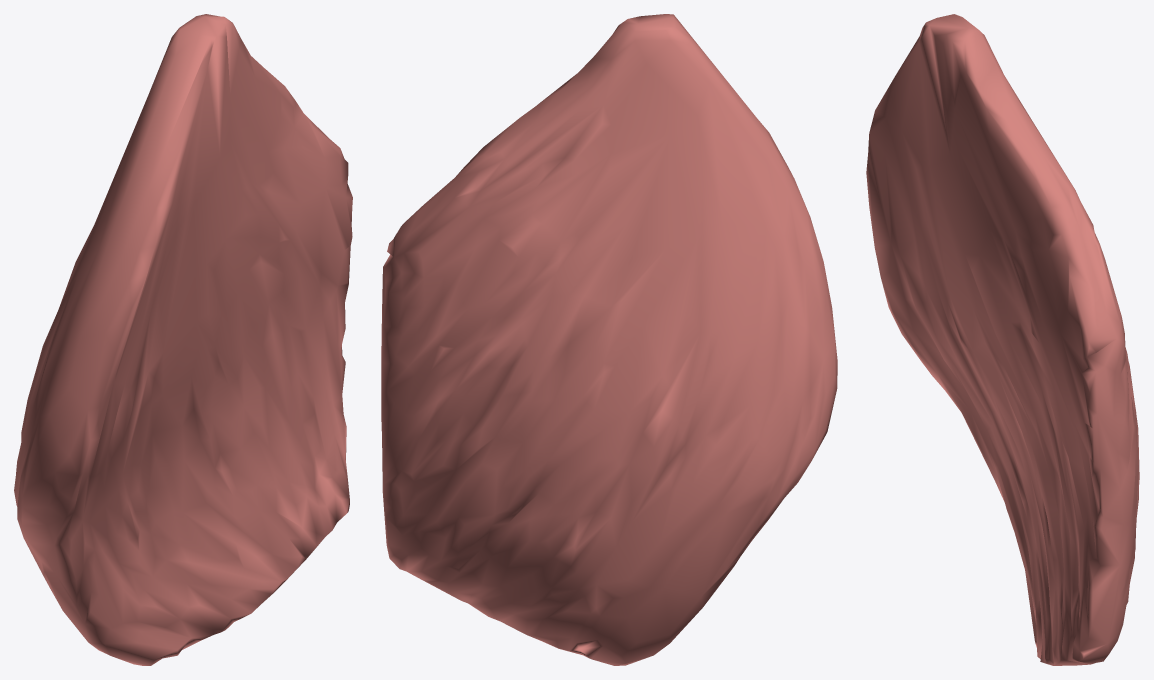
3 renders of one model, left to right at view 1: azimuth 30°, elevation 25°; view 2: azimuth 150°, elevation 25°; view 3: azimuth 270°, elevation 25°, orthographic. The views are drawn at different scales.
Parts seen in each view (by area): view 1: ZA_422d3eb973d3c1c4; view 2: ZA_422d3eb973d3c1c4; view 3: ZA_422d3eb973d3c1c4.
Part boxes in pixels (bbox=[...]): ZA_422d3eb973d3c1c4: bbox=[14, 14, 352, 665]; ZA_422d3eb973d3c1c4: bbox=[381, 14, 837, 665]; ZA_422d3eb973d3c1c4: bbox=[866, 14, 1139, 665].
Bounding box in the file's own units: 0.00909 × 0.0144 × 0.00574.
